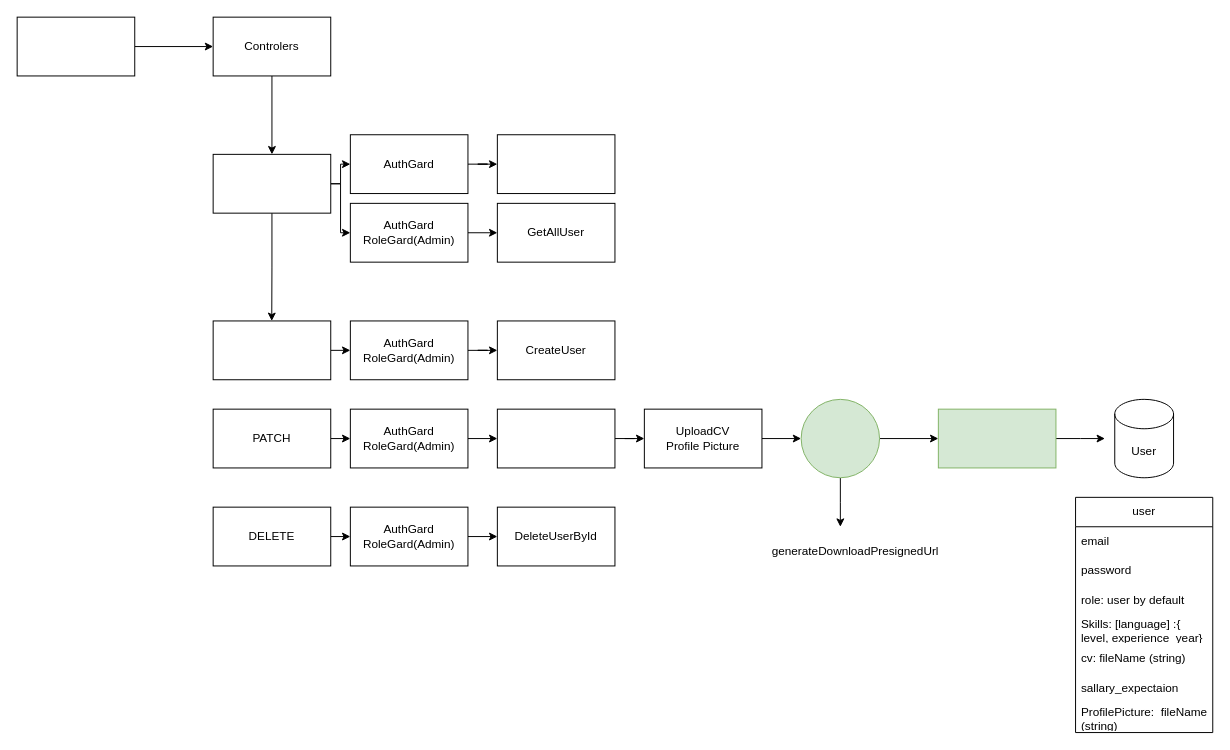
This 1230x750 diagram has some shape labels left out. The centre of each missing label's shape, as x and y in pixels:
"AWS" goes at (x=840, y=438).
"GET" goes at (x=271, y=183).
"GetUserByID" goes at (x=555, y=164).
"POST" goes at (x=271, y=350).
"UpdateUserById" goes at (x=555, y=438).
"UserControler" goes at (x=996, y=438).
"UserModule" goes at (x=75, y=46).
